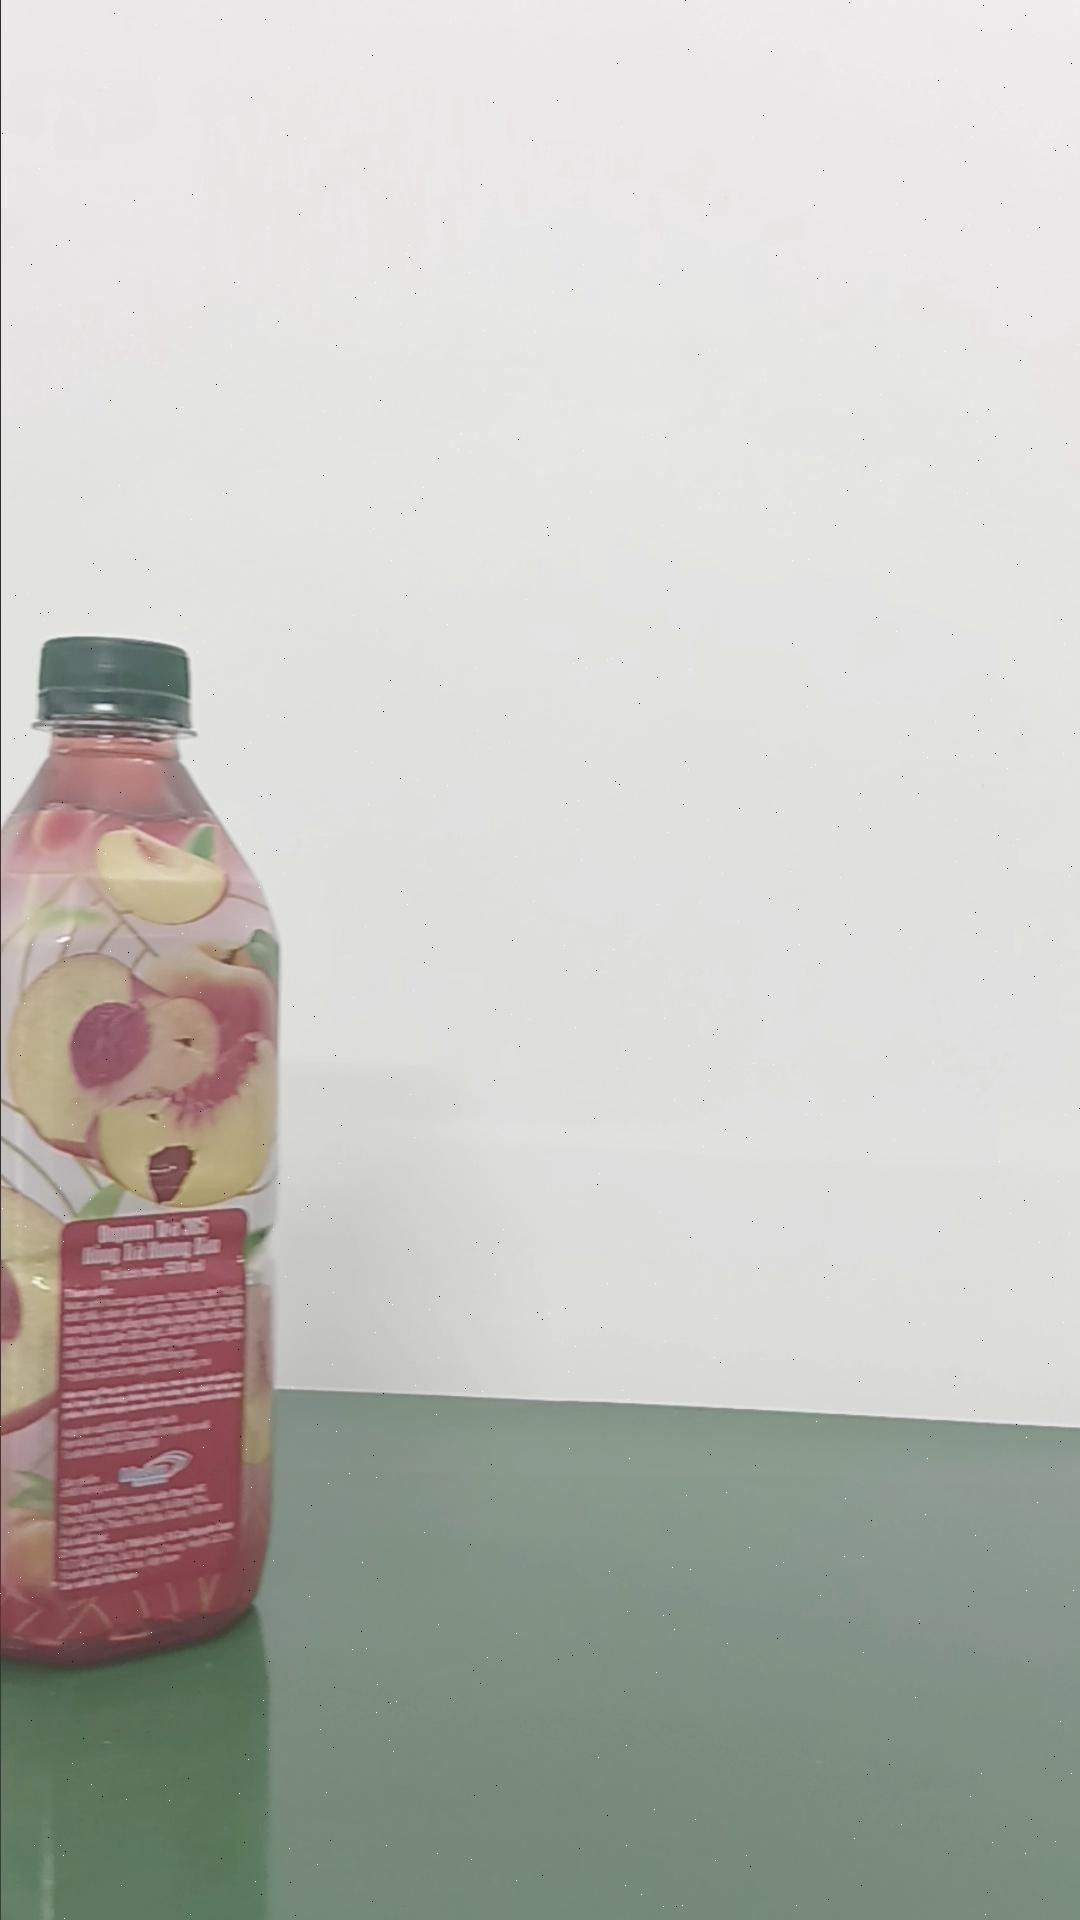loi rach va lap chai: (0, 626, 281, 1667)
